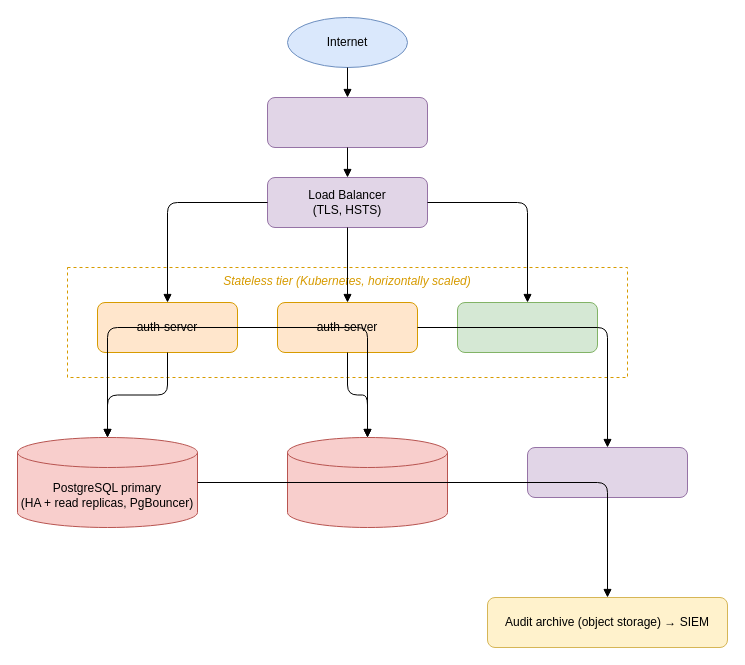
The diagram is 745 pixels wide and 665 high, and some of its shapes have lost their labels. Here are the shapes that lost their labels. From the top down, the centre of each, then its label:
At point 347,122: "CDN / WAF (static UI/docs, DDoS/WAF)".
At point 527,327: "admin-web".
At point 367,482: "Redis cluster (sessions, revoke, rate-limit)".
At point 607,472: "Secrets Manager / KMS".
